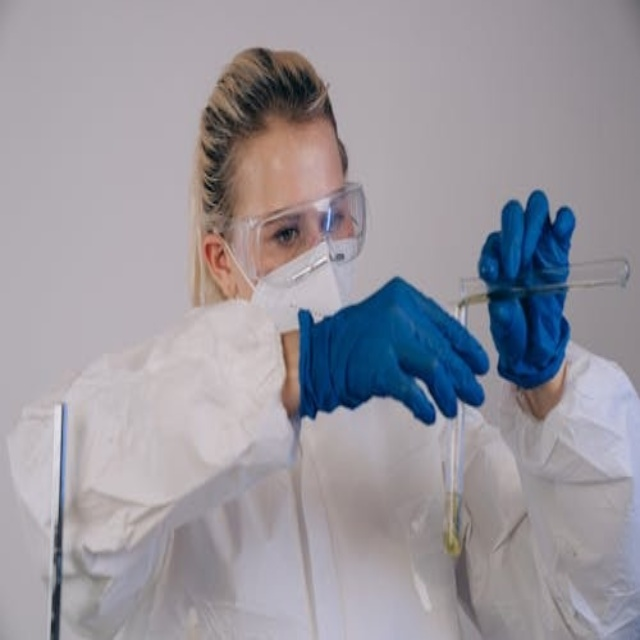Gafas: (216, 181, 367, 297)
Guantes: (296, 277, 492, 426), (476, 192, 574, 393)
Mascara: (244, 230, 350, 335)
